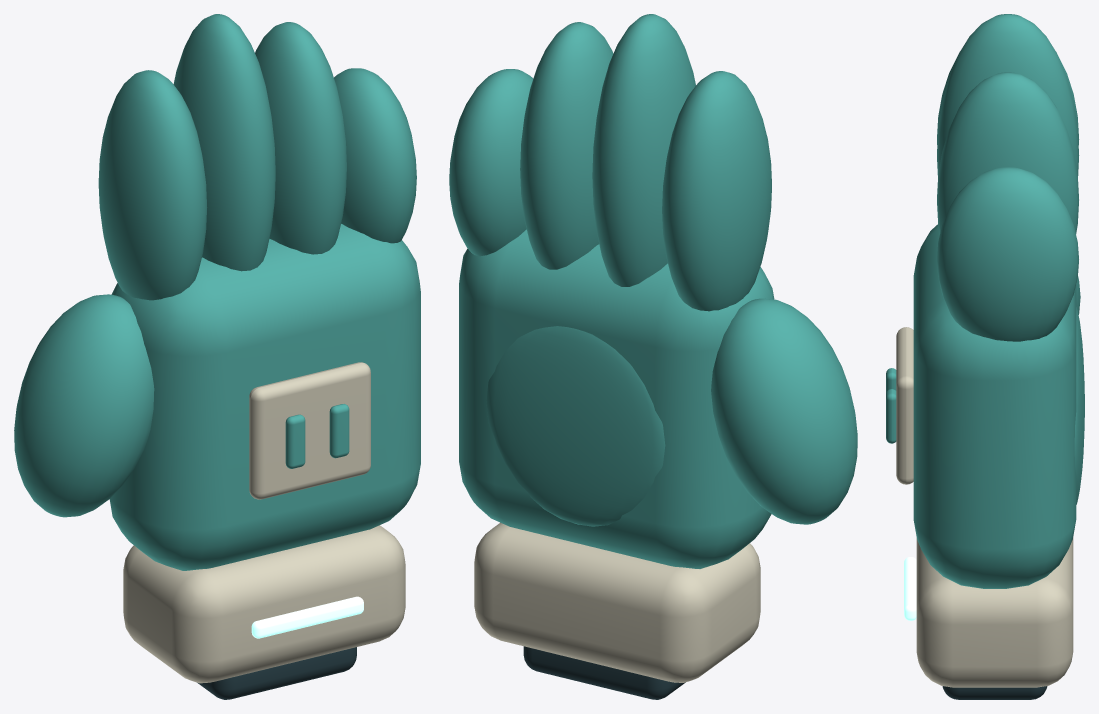
File: glove_right.glb
3 renders of one model, left to right at view 1: azimuth 30°, elevation 25°; view 2: azimuth 150°, elevation 25°; view 3: azimuth 270°, elevation 25°, orthographic. The views are drawn at different scales.
Parts seen in each view (by area): view 1: Padded palm, Cuff, Inward thumb, Soft finger 3, Soft finger 2, Soft finger 1, Spool badge, Soft finger 0, Socket, Wrist light, Badge spool, Badge spool.001; view 2: Padded palm, Cuff, Palm cushion, Inward thumb, Soft finger 3, Soft finger 2, Soft finger 1, Soft finger 0, Socket; view 3: Padded palm, Soft finger 0, Cuff, Soft finger 1, Soft finger 2, Spool badge, Palm cushion, Socket, Wrist light, Badge spool.001.
Part boxes in pixels (x1,y1,x2,y2): Padded palm: (109, 224, 420, 570); Cuff: (123, 525, 405, 683); Inward thumb: (14, 294, 154, 517); Soft finger 3: (98, 70, 207, 300); Soft finger 2: (173, 14, 275, 271); Soft finger 1: (255, 22, 346, 254); Spool badge: (249, 362, 370, 499); Soft finger 0: (334, 68, 416, 243); Socket: (197, 647, 356, 699); Wrist light: (251, 596, 363, 638); Badge spool: (285, 414, 305, 468); Badge spool.001: (329, 404, 349, 458); Padded palm: (459, 229, 774, 568); Cuff: (474, 522, 760, 682); Palm cushion: (486, 326, 665, 526); Inward thumb: (711, 298, 857, 524); Soft finger 3: (662, 71, 771, 311); Soft finger 2: (592, 14, 695, 286); Soft finger 1: (520, 22, 613, 269); Soft finger 0: (449, 69, 533, 256); Socket: (523, 646, 685, 699); Padded palm: (913, 224, 1076, 588); Soft finger 0: (937, 167, 1078, 341); Cuff: (916, 537, 1073, 687); Soft finger 1: (937, 72, 1078, 233); Soft finger 2: (937, 14, 1079, 175); Spool badge: (896, 327, 913, 484); Palm cushion: (1074, 307, 1084, 504); Socket: (942, 686, 1047, 699); Wrist light: (904, 557, 916, 620); Badge spool.001: (886, 389, 896, 443).
Bounding box in the file's own units: 0.2924 × 0.4859 × 0.137.
